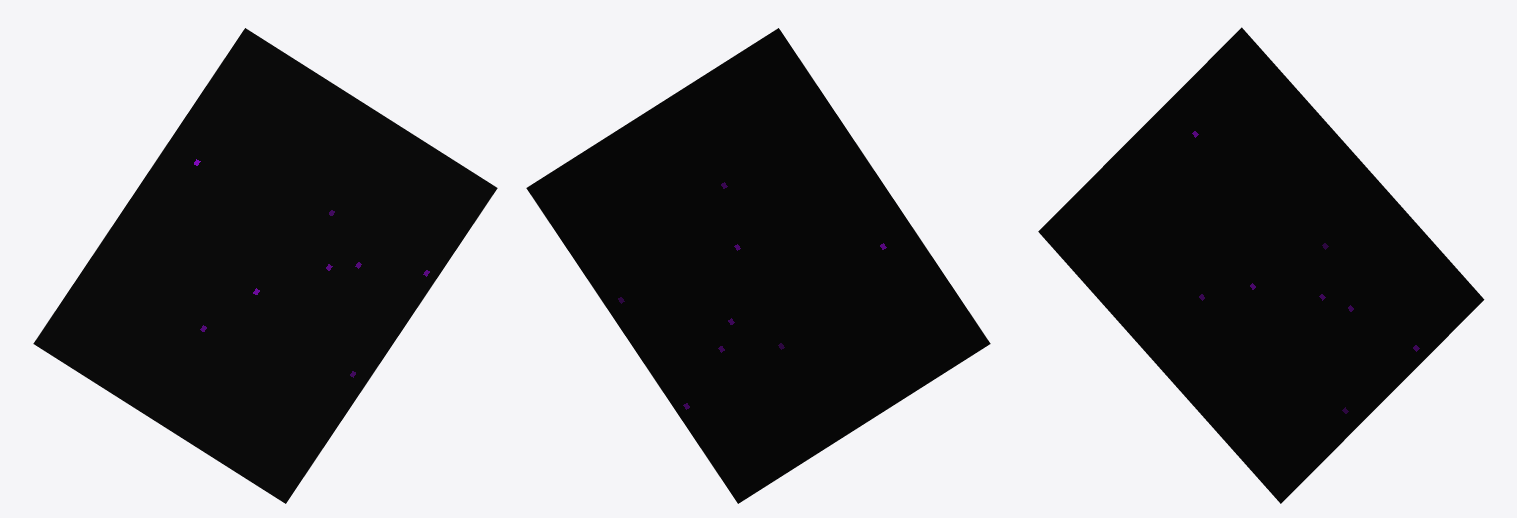
The model's file is demigodsunholyhalberd.gltf.
3 views of the same model, side by side, from view 1: azimuth 30°, elevation 25°; view 2: azimuth 150°, elevation 25°; view 3: azimuth 330°, elevation 25° (orthographic). The views are drawn at different scales.
Visible parts, largest first — view 1: cube; view 2: cube; view 3: cube.
Part boxes in pixels (x1=…): cube: x1=33, y1=28, x2=497, y2=503; cube: x1=526, y1=28, x2=990, y2=503; cube: x1=1038, y1=27, x2=1484, y2=503.
Size of the model in its own units: 0.8805 by 0.8805 by 0.0626.
Materials: 1 (1 with a texture image).
